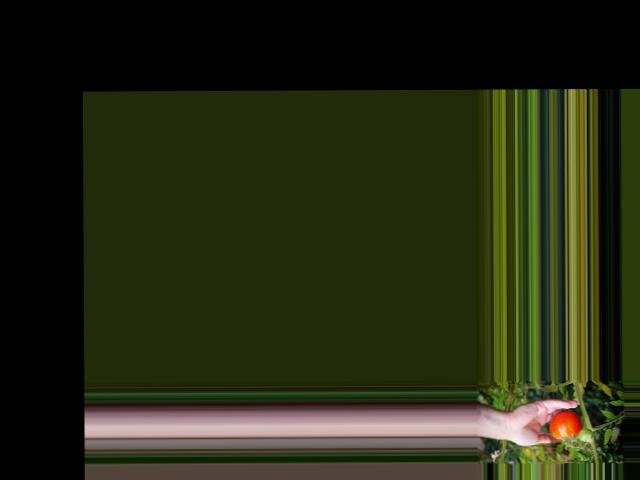tomato: (548, 411, 582, 440)
